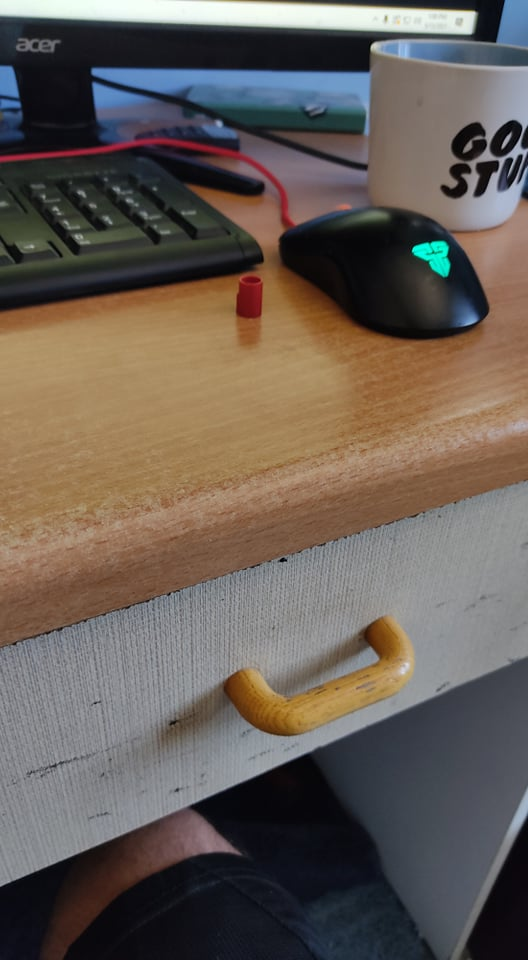red_bucking: (227, 268, 273, 325)
